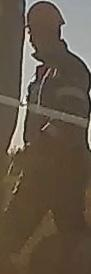gloves: (7, 141, 43, 178)
helmet: (23, 0, 65, 30)
vest: (24, 56, 91, 184)
